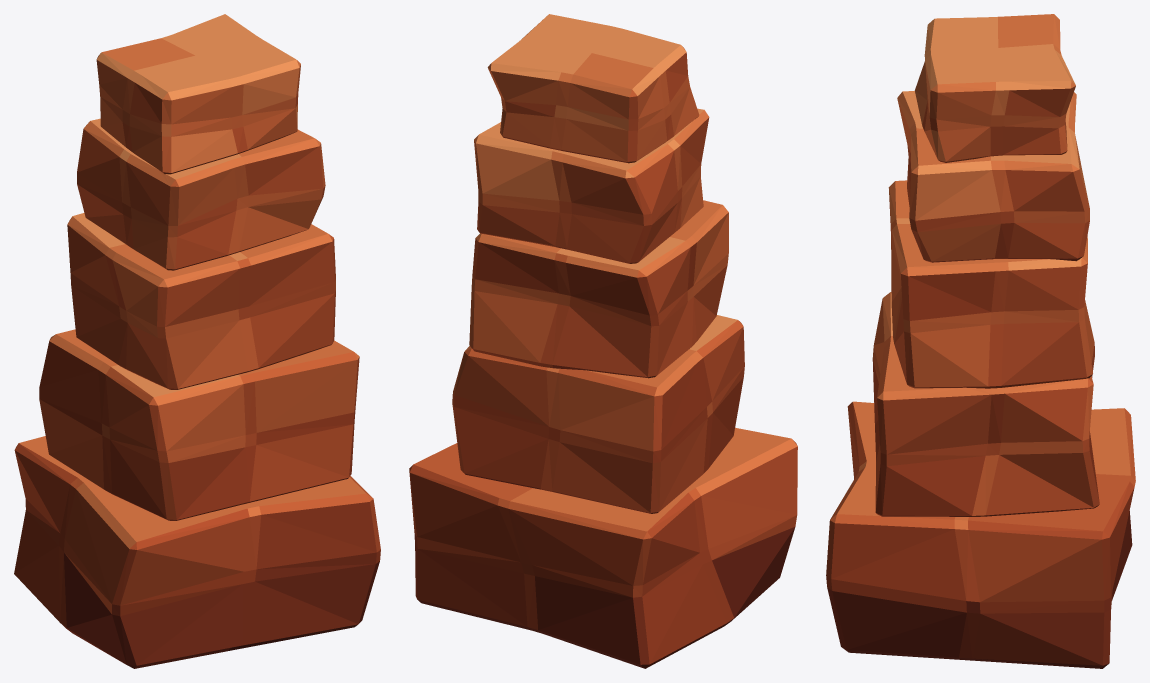
File: SM_ROCK_FORMATION_01.fbx
The picture shows the model from 3 angles, left to right: view 1: azimuth 30°, elevation 25°; view 2: azimuth 150°, elevation 25°; view 3: azimuth 270°, elevation 25°; orthographic projection. The views are drawn at different scales.
Visible parts, largest first — view 1: ROCK_FORMATION_01; view 2: ROCK_FORMATION_01; view 3: ROCK_FORMATION_01.
Part boxes in pixels (bbox=[...]): ROCK_FORMATION_01: bbox=[14, 14, 380, 668]; ROCK_FORMATION_01: bbox=[409, 14, 797, 668]; ROCK_FORMATION_01: bbox=[826, 14, 1135, 668].
Size of the model in its own units: 2.96 by 2.77 by 5.54.
